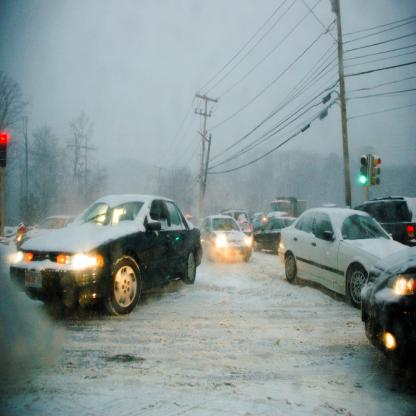Car: (10, 193, 416, 372)
